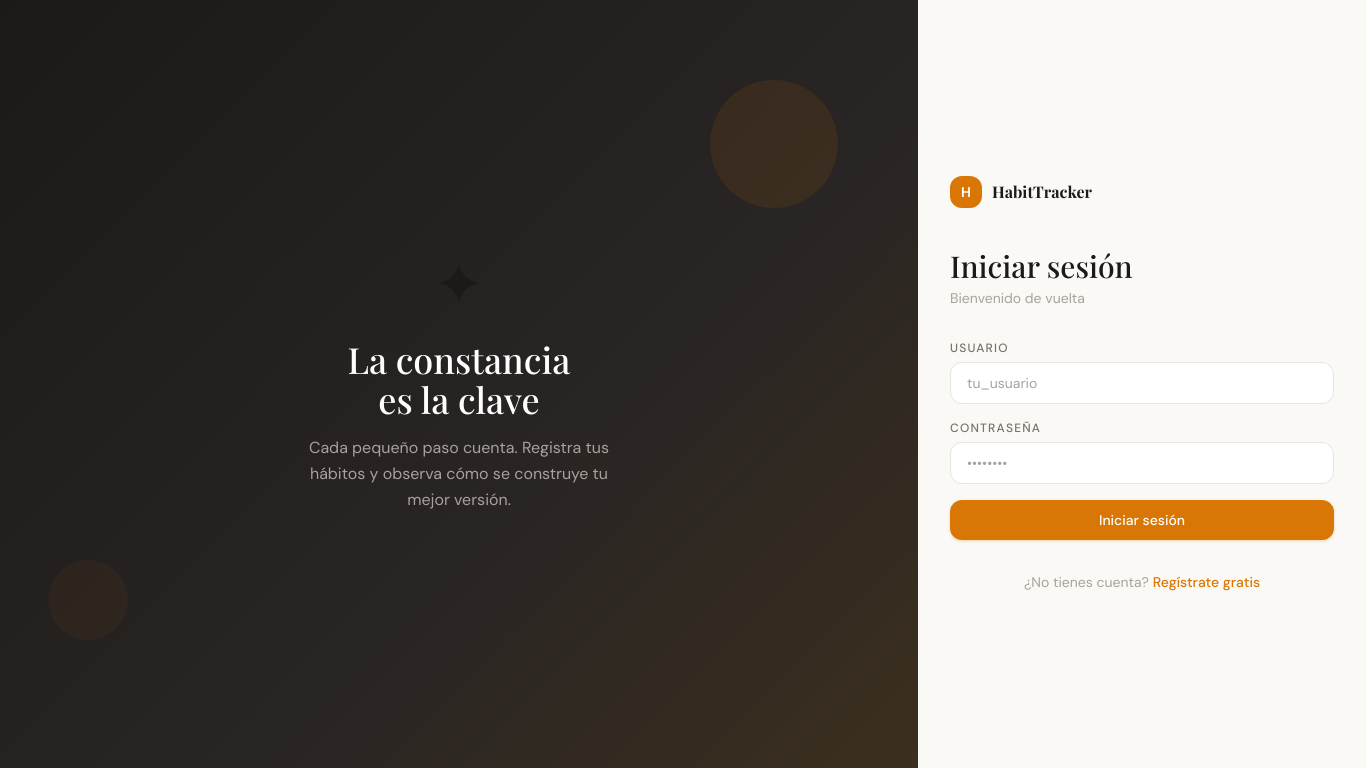
Test case: LoginPage — validaciones › muestra error si el usuario tiene menos de 3 caracteres
Type "ab" into the field with placeholder "tu_usuario" at (1142, 383), box [950,362,1334,404]
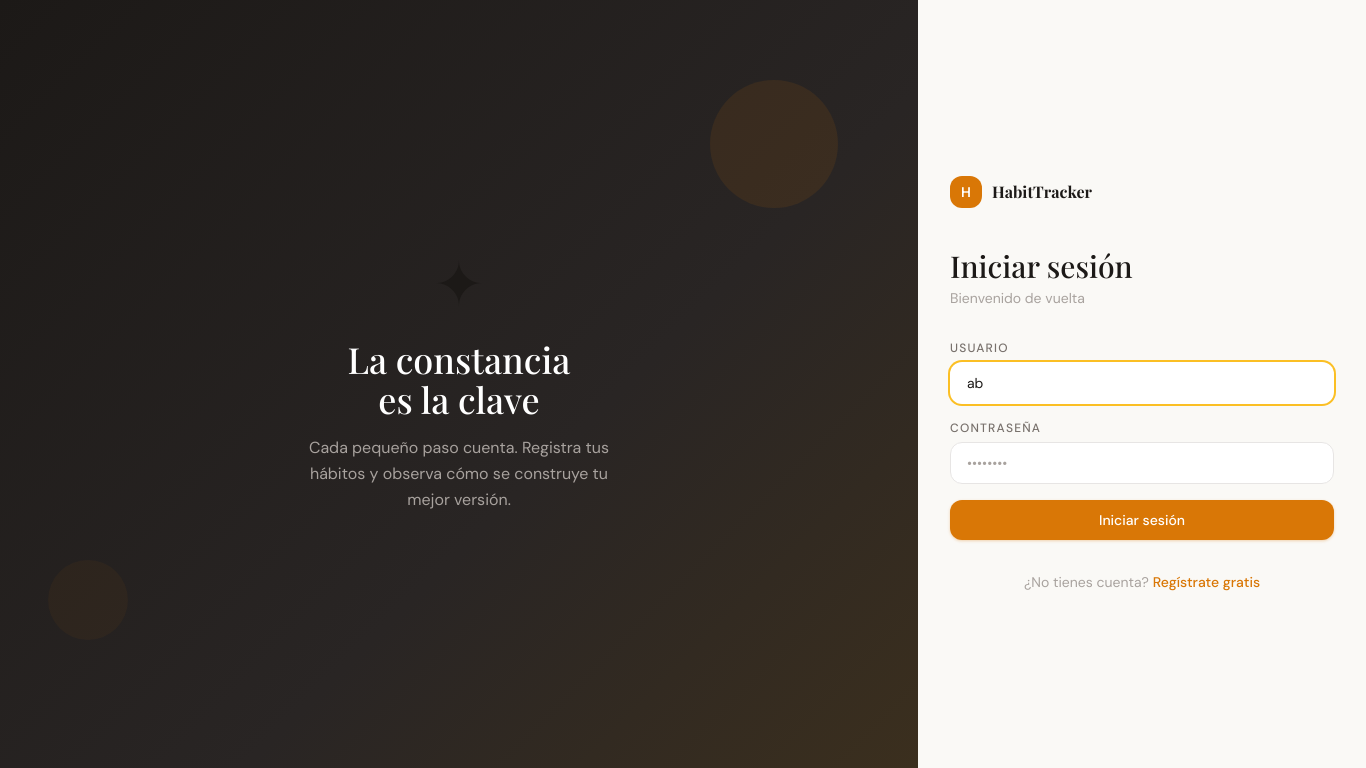
Click the button "Iniciar sesión" at (1142, 520), box [950,500,1334,540]
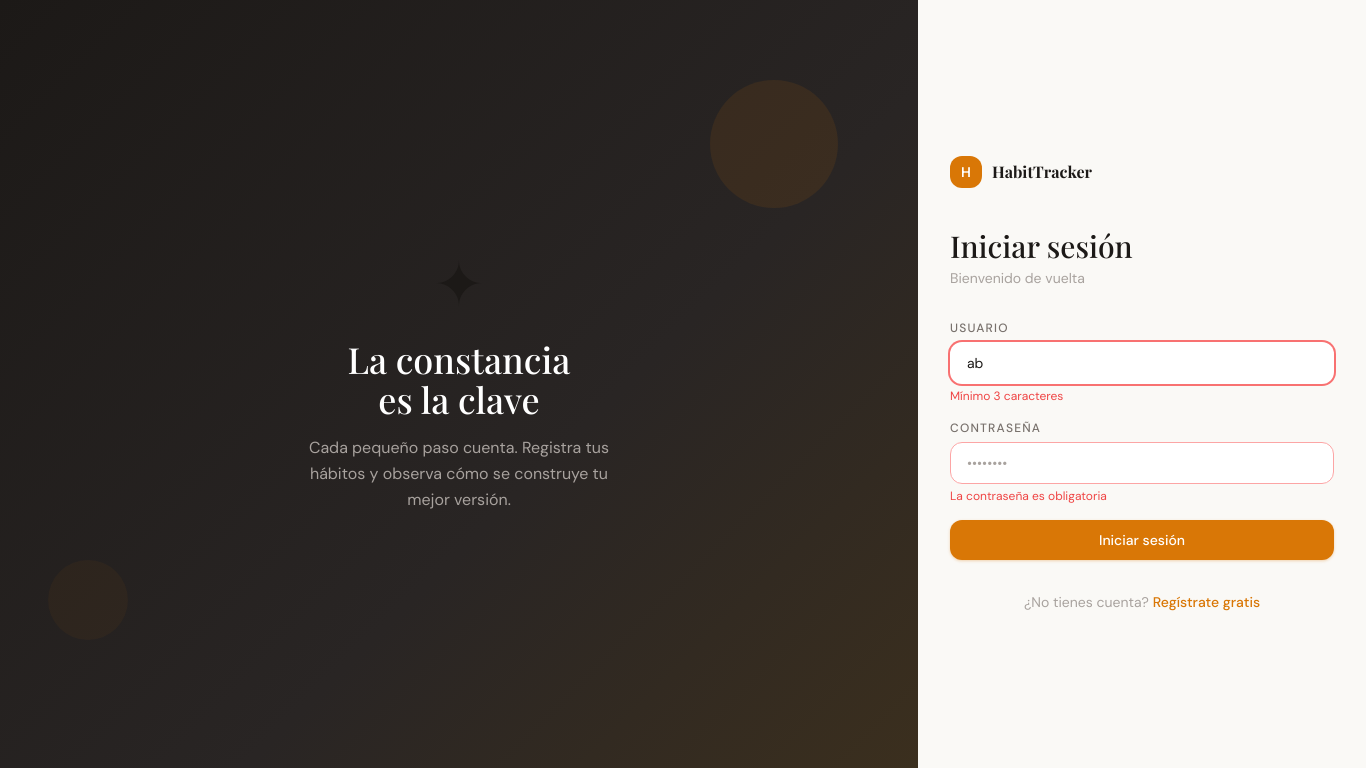
Result: the text "Mínimo 3 caracteres" is shown at [950,388,1063,404]
